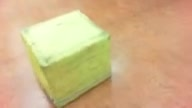cube: (20, 9, 112, 108)
